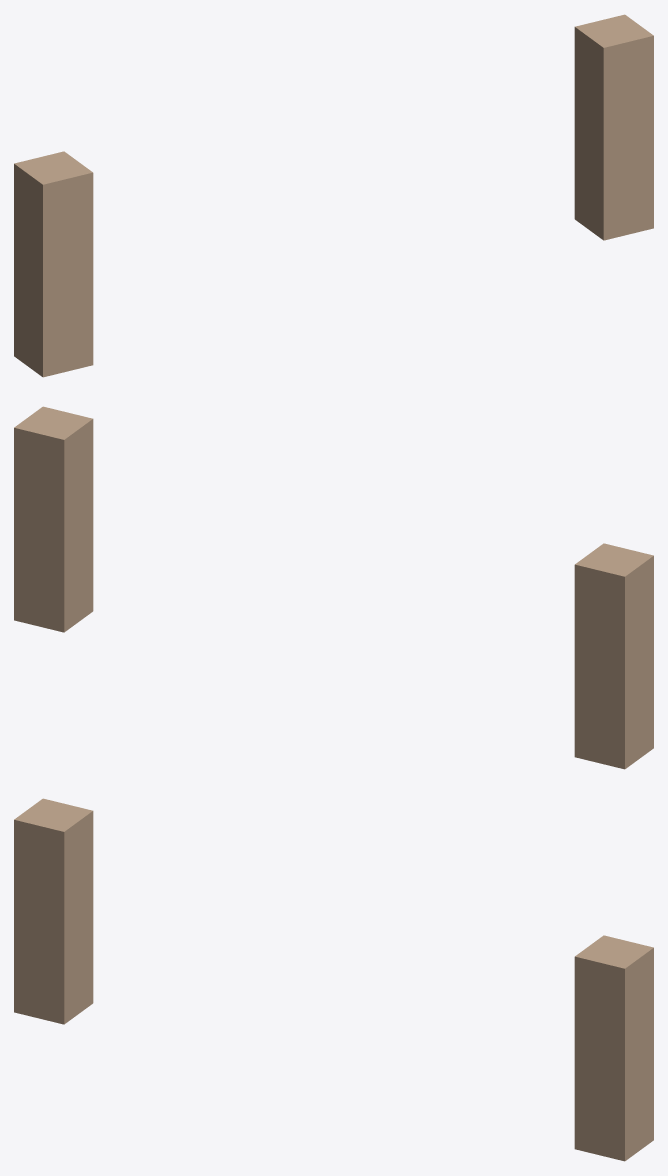
The model's file is sideburn_strips.glb.
3 renders of one model, top to bottom at view 1: azimuth 30°, elevation 25°; view 2: azimuth 150°, elevation 25°; view 3: azimuth 330°, elevation 25°, orthographic.
Visible parts, largest first — view 1: Sideburn Strips; view 2: Sideburn Strips; view 3: Sideburn Strips.
Boxes of the visible parts, box(x1,y1,x2,y2) form: Sideburn Strips: box(14, 14, 653, 377); Sideburn Strips: box(14, 406, 653, 769); Sideburn Strips: box(14, 798, 653, 1161).
Size of the model in its own units: 0.73 by 0.22 by 0.06.
